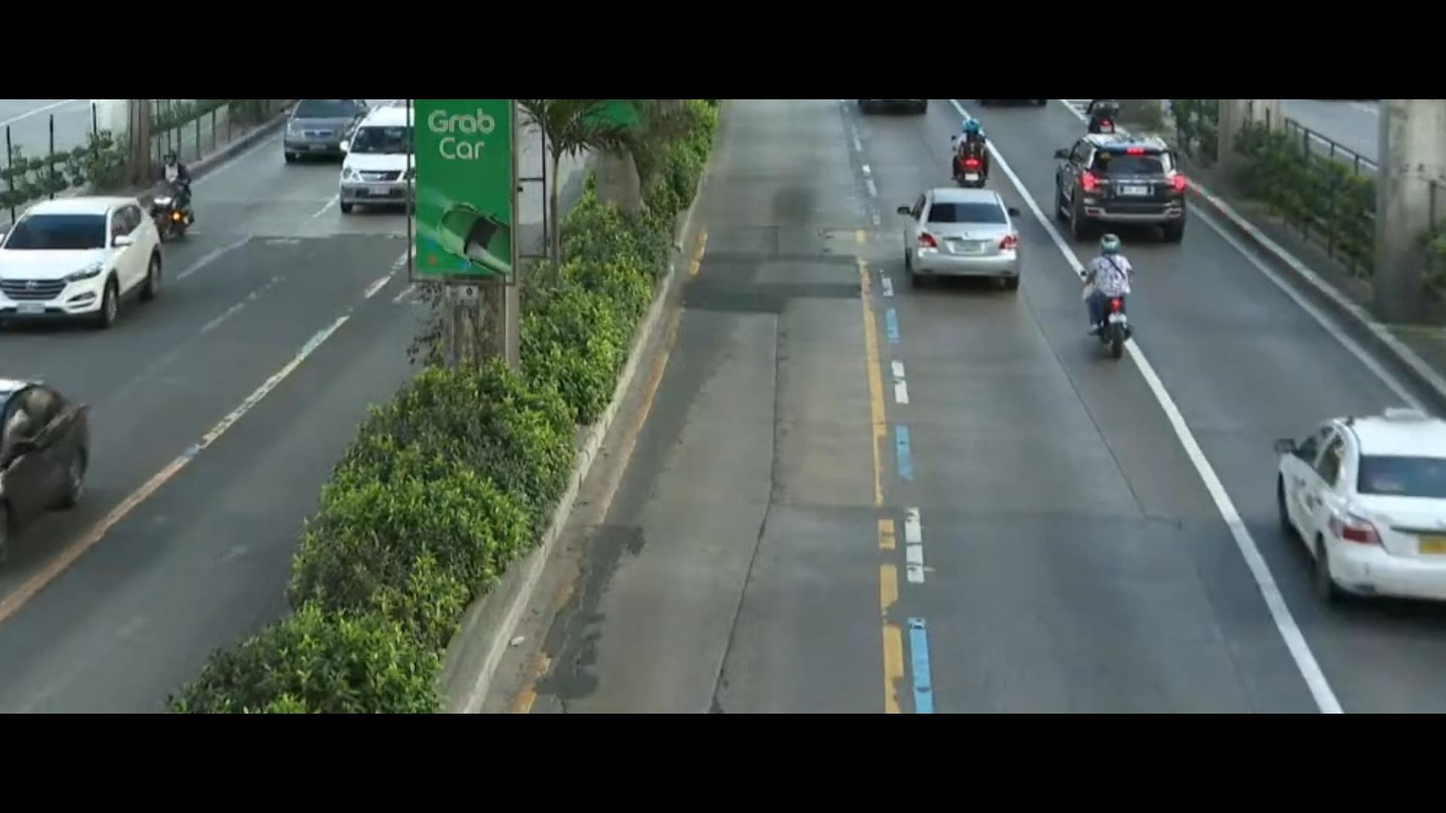Motorcycle: (1066, 224, 1162, 372), (151, 125, 223, 239), (943, 113, 1008, 197)
SUV: (0, 174, 196, 349), (1053, 123, 1196, 244), (341, 108, 429, 222), (277, 99, 370, 151)
Sedan: (1268, 396, 1446, 617), (0, 382, 119, 563), (884, 170, 1025, 296)
